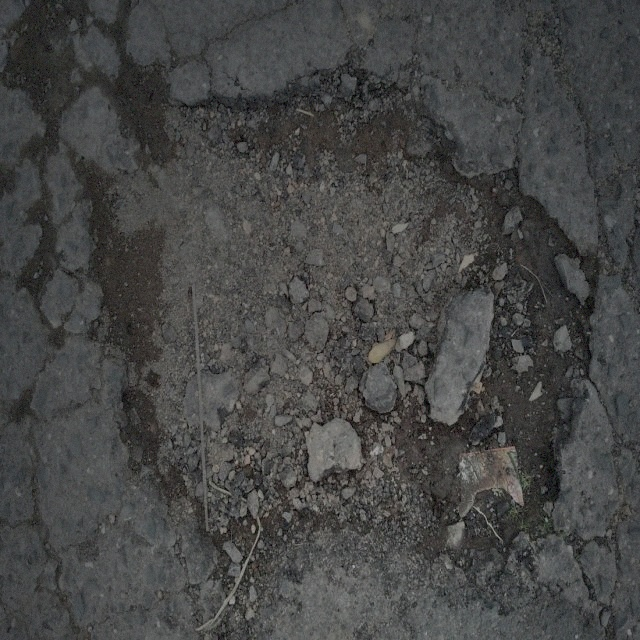pothole: (94, 53, 613, 596)
